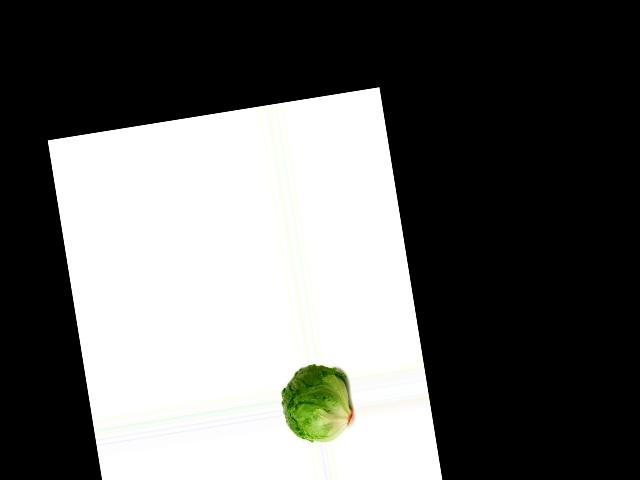lettuce: (276, 360, 354, 443)
